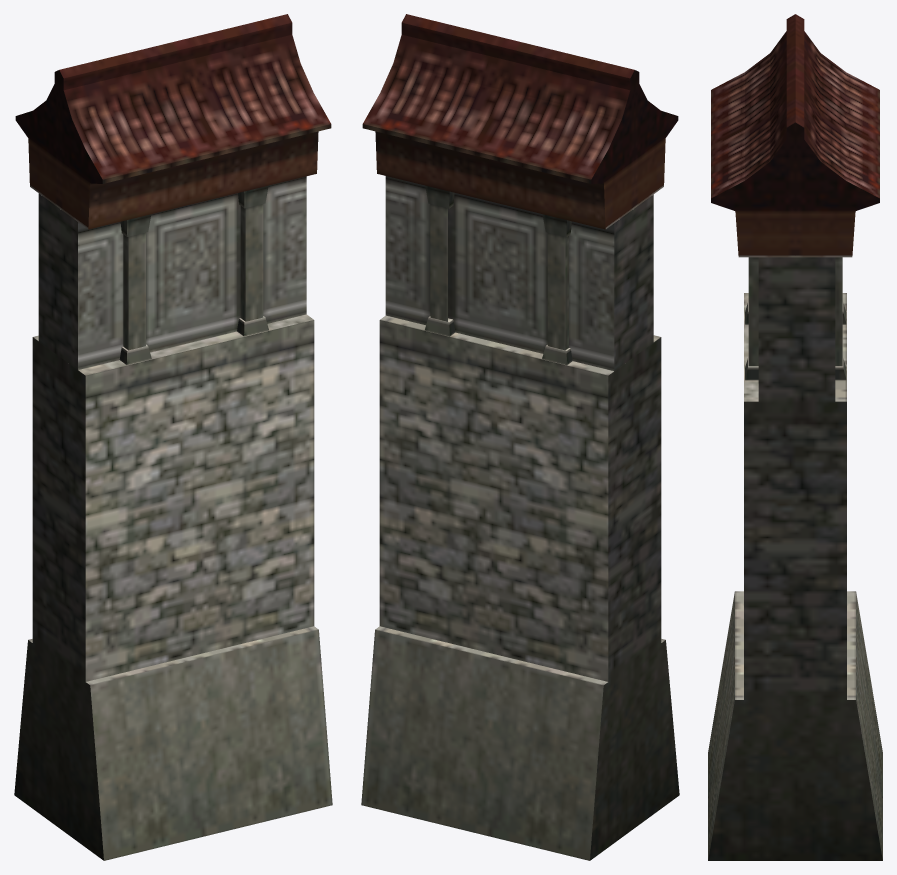
File: a1-middledam-04.glb
3 renders of one model, left to right at view 1: azimuth 30°, elevation 25°; view 2: azimuth 150°, elevation 25°; view 3: azimuth 270°, elevation 25°, orthographic. The views are drawn at different scales.
Parts seen in each view (by area): view 1: b1-middledam-04; view 2: b1-middledam-04; view 3: b1-middledam-04.
Boxes of the visible parts, bbox=[...] form: b1-middledam-04: bbox=[14, 14, 332, 860]; b1-middledam-04: bbox=[361, 14, 679, 860]; b1-middledam-04: bbox=[708, 14, 882, 860].
Bounding box in the file's own units: 2.5 × 7.92 × 1.7.
Materials: 1 (1 with a texture image).
